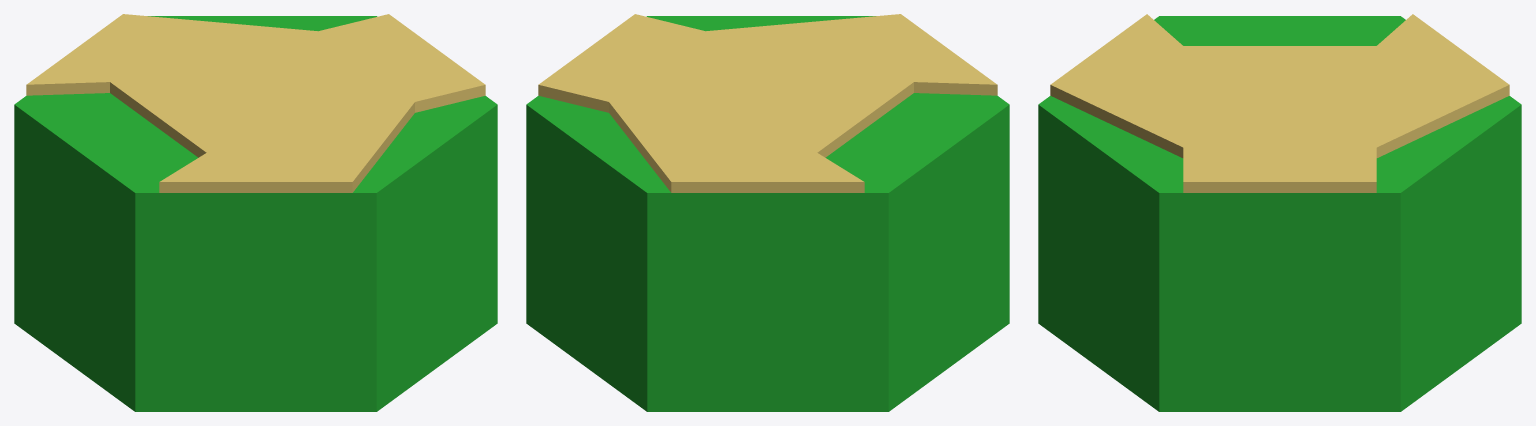
The model's file is path-y_corner.glb.
The picture shows the model from 3 angles, left to right: view 1: azimuth 30°, elevation 25°; view 2: azimuth 150°, elevation 25°; view 3: azimuth 270°, elevation 25°; orthographic projection.
Visible parts, largest first — view 1: path-y_corner; view 2: path-y_corner; view 3: path-y_corner.
Part boxes in pixels (x1,y1,x2,y2): path-y_corner: (14, 14, 497, 411); path-y_corner: (526, 14, 1009, 411); path-y_corner: (1038, 14, 1521, 411).
Size of the model in its own units: 0.866 by 0.525 by 1.
